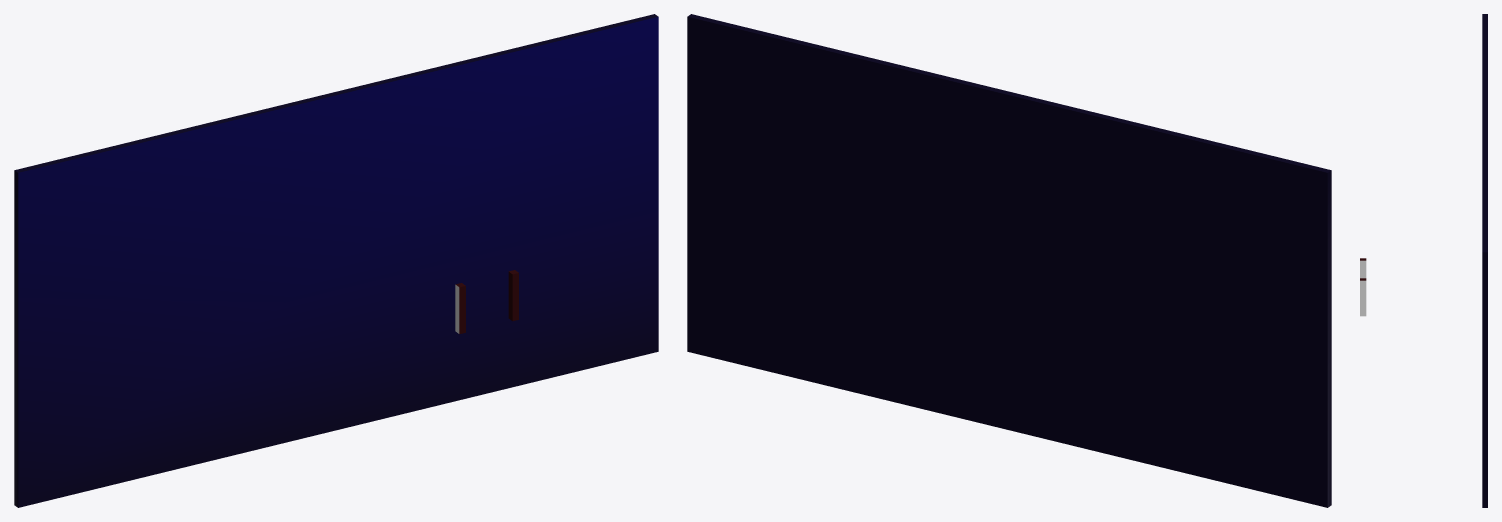
The model's file is testing scenario.fbx.
3 views of the same model, side by side, from view 1: azimuth 30°, elevation 25°; view 2: azimuth 150°, elevation 25°; view 3: azimuth 270°, elevation 25° (orthographic). The views are drawn at different scales.
Visible parts, largest first — view 1: Floor; view 2: Floor; view 3: Floor, Wall 2.
Part boxes in pixels (x1,y1,x2,y2): Floor: [14, 14, 658, 507]; Floor: [687, 14, 1331, 507]; Floor: [1482, 14, 1487, 507]; Wall 2: [1360, 278, 1366, 316].
Bounding box in the file's own units: 200 × 100 × 45.28.
